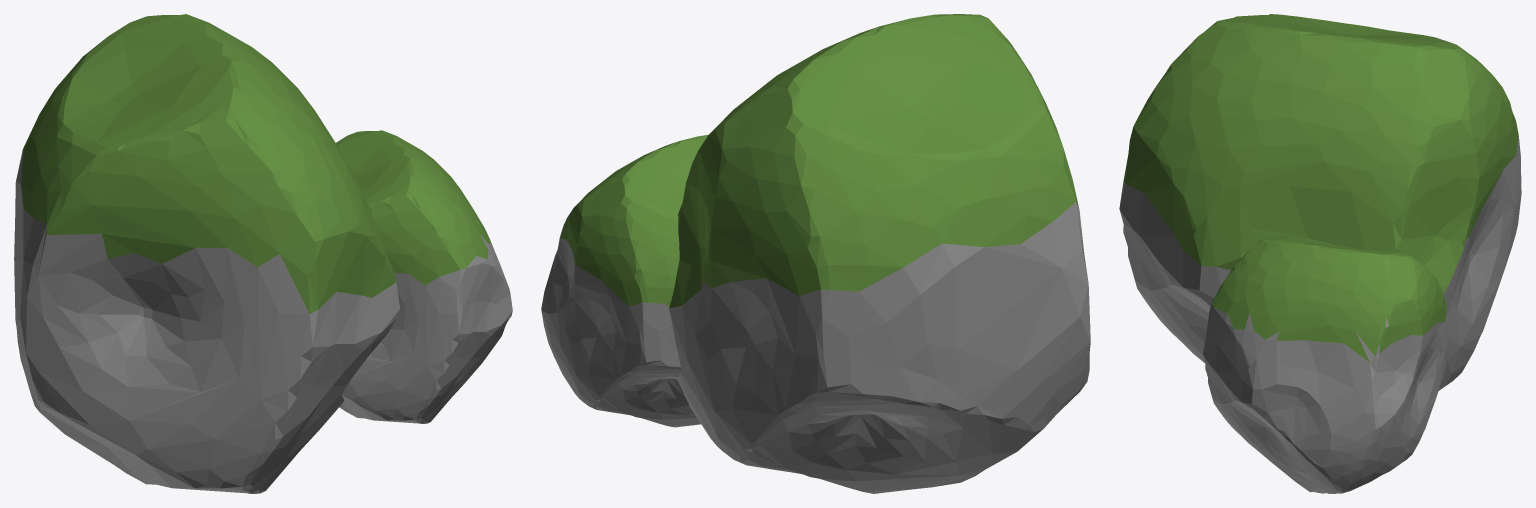
Rendered from rocciamuschio.fbx.
3 views of the same model, side by side, from view 1: azimuth 30°, elevation 25°; view 2: azimuth 150°, elevation 25°; view 3: azimuth 270°, elevation 25° (orthographic). The views are drawn at different scales.
Parts seen in each view (by area): view 1: Cube, Cube.002; view 2: Cube, Cube.002; view 3: Cube, Cube.002.
Part boxes in pixels (left/top/right/bottom): Cube: left=14, top=14, right=399, bottom=493; Cube.002: left=336, top=130, right=512, bottom=423; Cube: left=669, top=14, right=1090, bottom=493; Cube.002: left=541, top=134, right=708, bottom=427; Cube: left=1119, top=14, right=1521, bottom=390; Cube.002: left=1203, top=235, right=1448, bottom=493.
Size of the model in its own units: 592 by 509 by 476.
